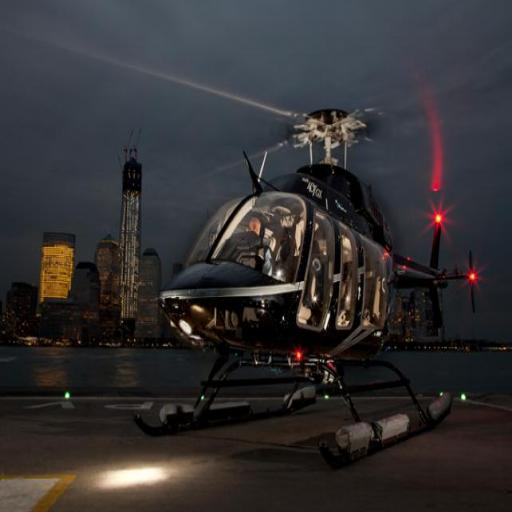helicopter: (116, 59, 483, 453)
